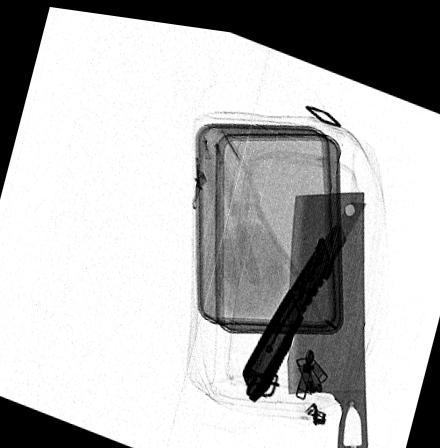Knife: (239, 190, 366, 395), (286, 181, 368, 448)
